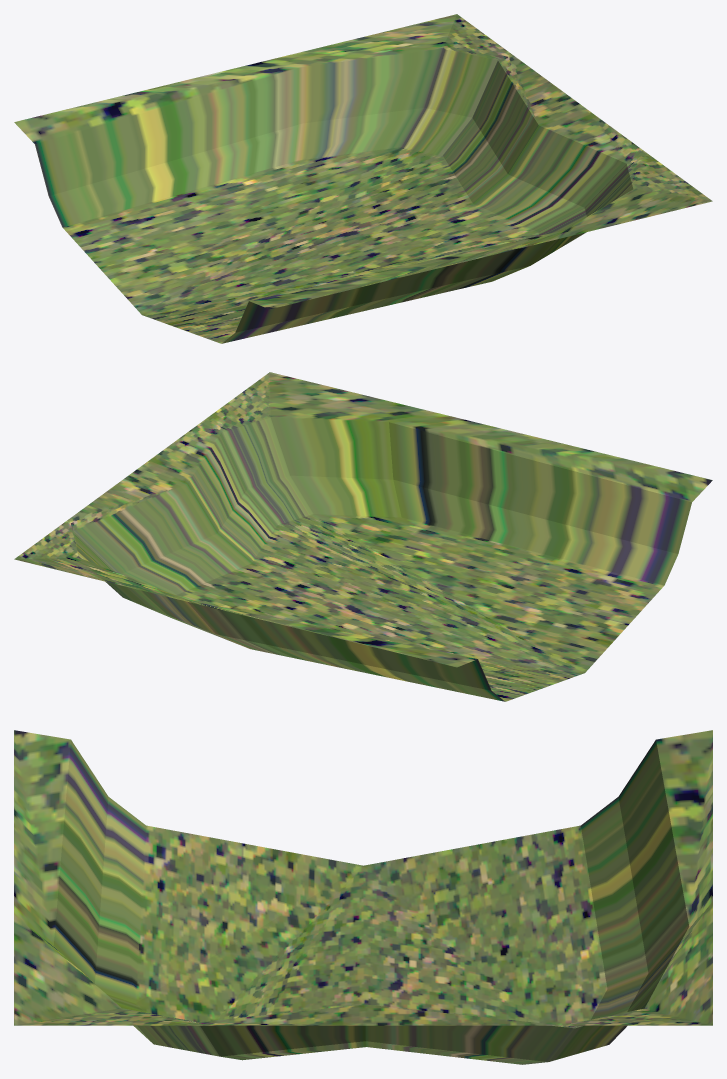
Rendered from Mesh_WaterTileRiverEndCap.fbx.
3 renders of one model, top to bottom at view 1: azimuth 30°, elevation 25°; view 2: azimuth 150°, elevation 25°; view 3: azimuth 270°, elevation 25°, orthographic. The views are drawn at different scales.
Visible parts, largest first — view 1: WaterTileRiverEndCap; view 2: WaterTileRiverEndCap; view 3: WaterTileRiverEndCap.
Boxes of the visible parts, bbox=[...] form: WaterTileRiverEndCap: bbox=[14, 14, 712, 343]; WaterTileRiverEndCap: bbox=[14, 372, 712, 701]; WaterTileRiverEndCap: bbox=[14, 730, 712, 1064].
Bounding box in the file's own units: 10000 × 2140 × 10000.
